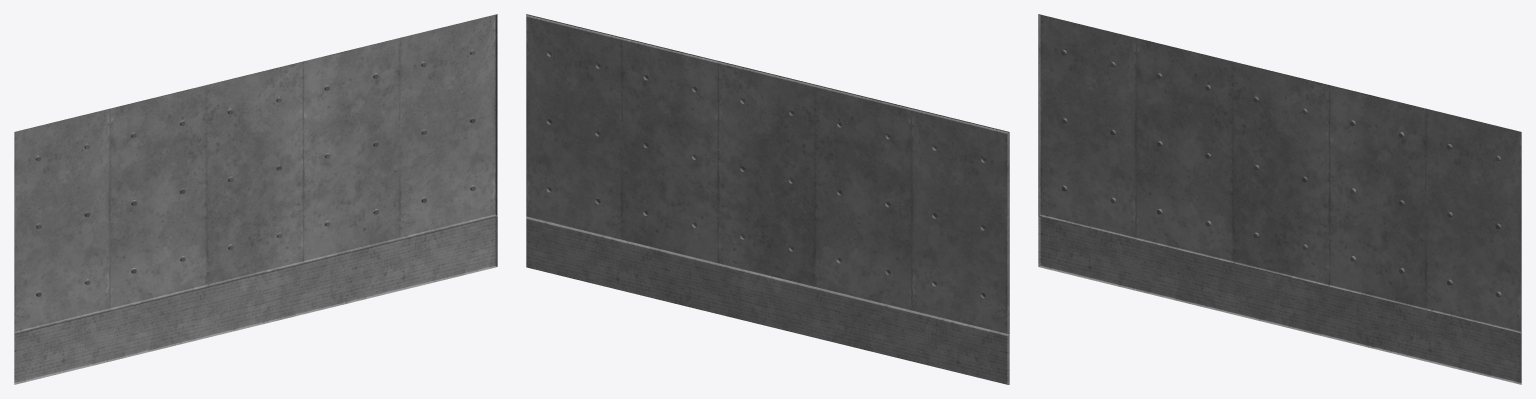
The model's file is SM_Wall_09.fbx.
The picture shows the model from 3 angles, left to right: view 1: azimuth 30°, elevation 25°; view 2: azimuth 150°, elevation 25°; view 3: azimuth 330°, elevation 25°; orthographic projection.
Parts seen in each view (by area): view 1: SM_Wall_09; view 2: SM_Wall_09; view 3: SM_Wall_09.
Part boxes in pixels (<box>): SM_Wall_09: <box>14,14,497,384</box>; SM_Wall_09: <box>526,14,1009,384</box>; SM_Wall_09: <box>1038,14,1521,384</box>.
Bounding box in the file's own units: 500 × 250 × 2.
